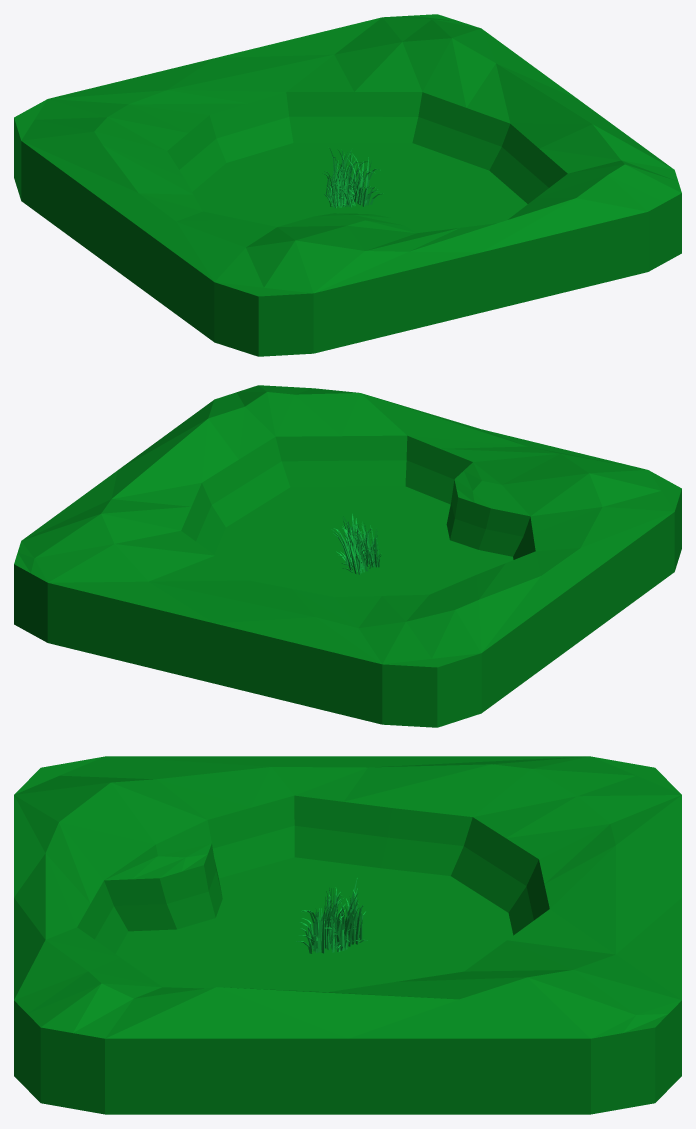
The model's file is pond.glb.
3 views of the same model, one above another, from view 1: azimuth 30°, elevation 25°; view 2: azimuth 150°, elevation 25°; view 3: azimuth 270°, elevation 25° (orthographic). The views are drawn at different scales.
Visible parts, largest first — view 1: pond; view 2: pond; view 3: pond, Cattail.014.
Boxes of the visible parts, x1,y1,x2,y2 form: pond: (14,14,681,356); pond: (14,385,681,727); pond: (14,756,681,1114); Cattail.014: (296,895,341,953).
Size of the model in its own units: 6.13 by 1.06 by 6.13.
